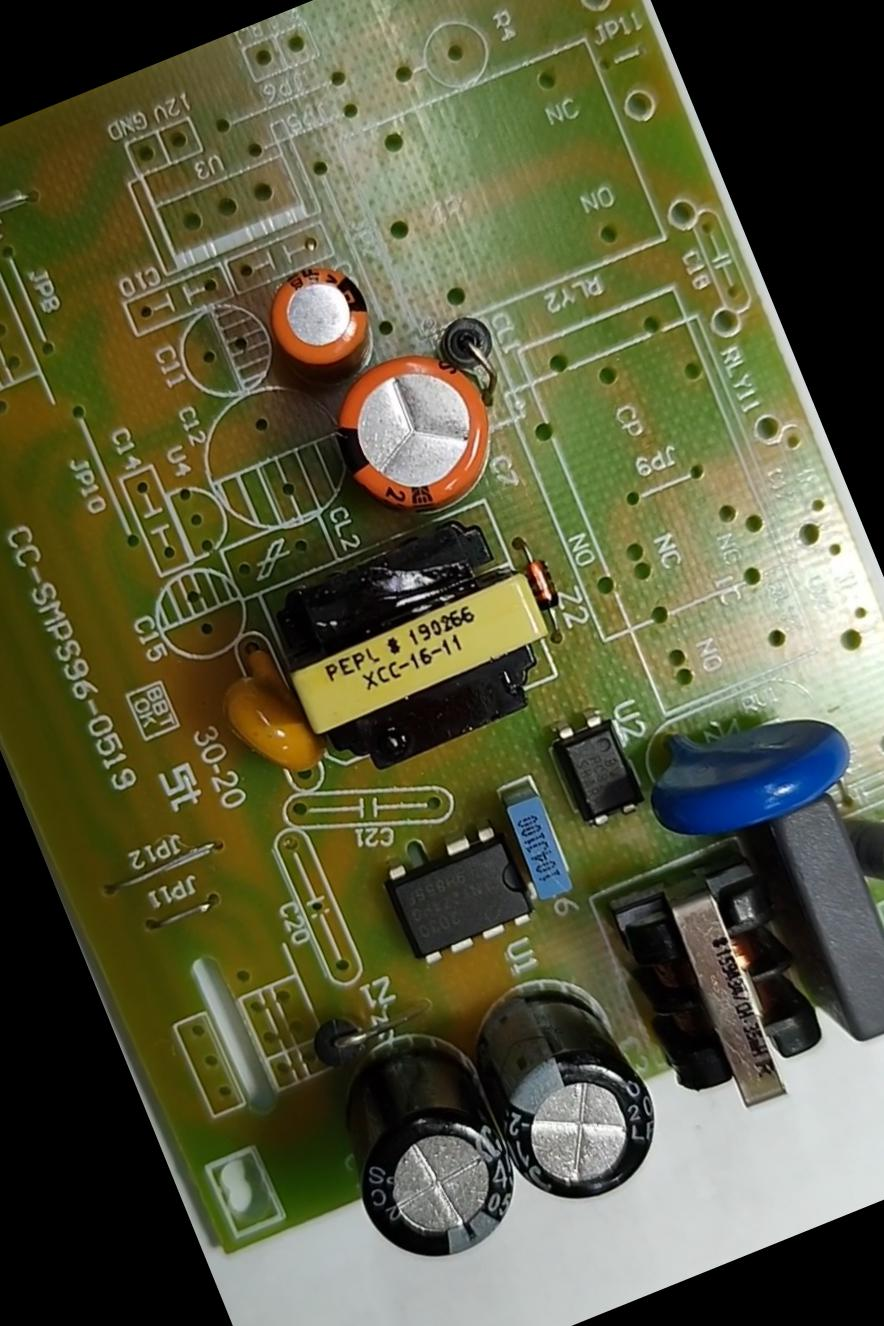Cap1: (296, 324, 528, 542)
Cap2: (246, 241, 392, 394)
Cap3: (460, 948, 681, 1220)
Cap4: (284, 986, 549, 1304)
MOSFET: (363, 807, 558, 983)
Mov: (615, 656, 880, 867)
Resistor: (837, 773, 883, 919)
Transformer: (227, 467, 600, 807), (592, 826, 852, 1142)
